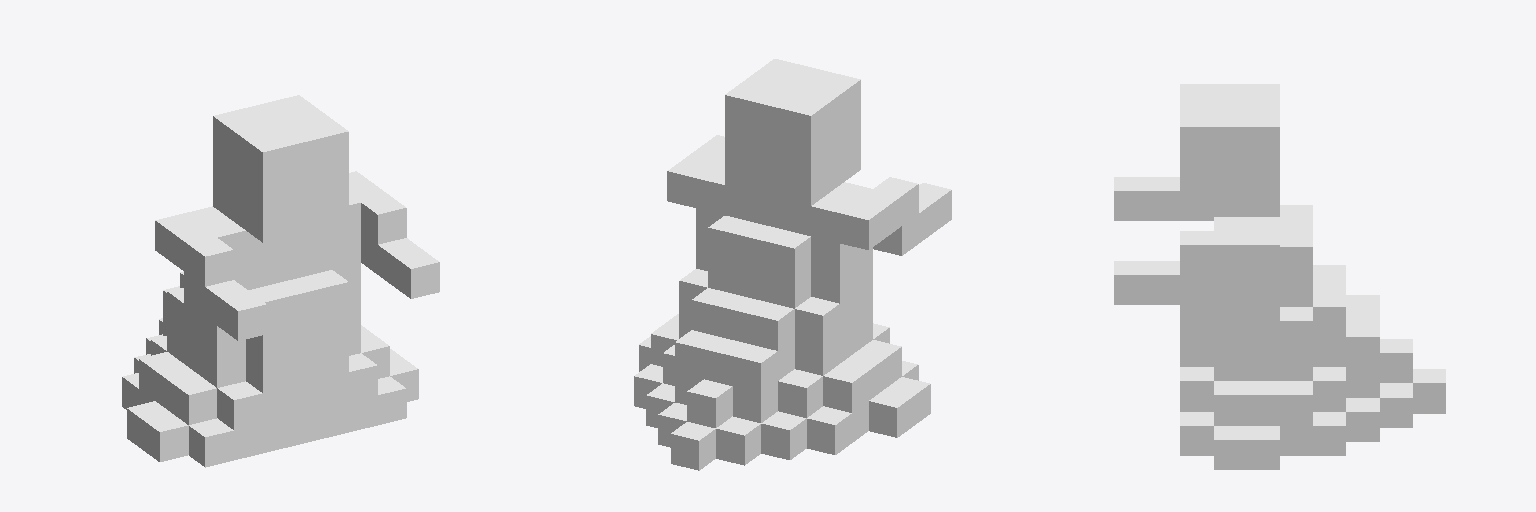
File: attack_2.obj
3 renders of one model, left to right at view 1: azimuth 30°, elevation 25°; view 2: azimuth 150°, elevation 25°; view 3: azimuth 270°, elevation 25°, orthographic.
Size of the model in its own units: 9 by 10 by 10.